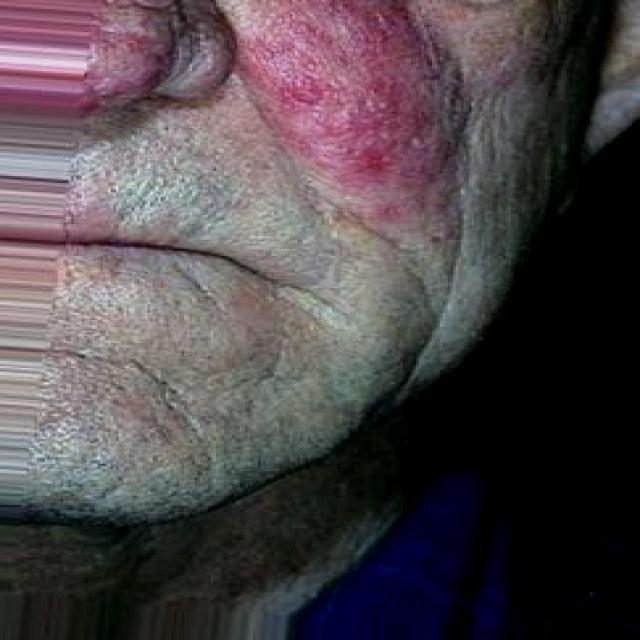Rosacea: (237, 0, 461, 225), (88, 28, 167, 94)
